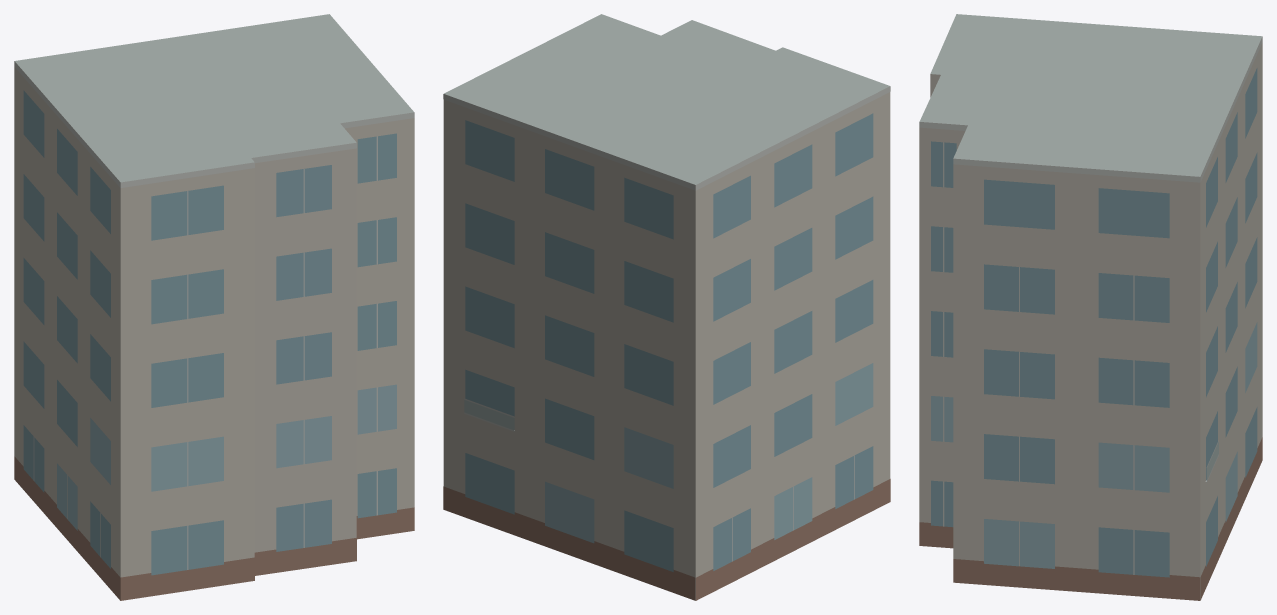
File: survey-upis-33017387.glb
The picture shows the model from 3 angles, left to right: view 1: azimuth 30°, elevation 25°; view 2: azimuth 150°, elevation 25°; view 3: azimuth 270°, elevation 25°; orthographic projection.
Visible parts, largest first — view 1: survey-upis-33017387.tmp; view 2: survey-upis-33017387.tmp; view 3: survey-upis-33017387.tmp.
Boxes of the visible parts, x1=… form: survey-upis-33017387.tmp: x1=14, y1=14, x2=414, y2=600; survey-upis-33017387.tmp: x1=443, y1=14, x2=890, y2=600; survey-upis-33017387.tmp: x1=919, y1=14, x2=1262, y2=600.
Size of the model in its own units: 14.7 by 17.83 by 13.09.
